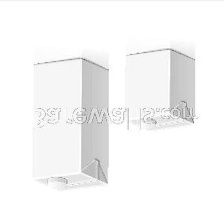carton: (26, 54, 112, 195), (120, 46, 200, 138)
